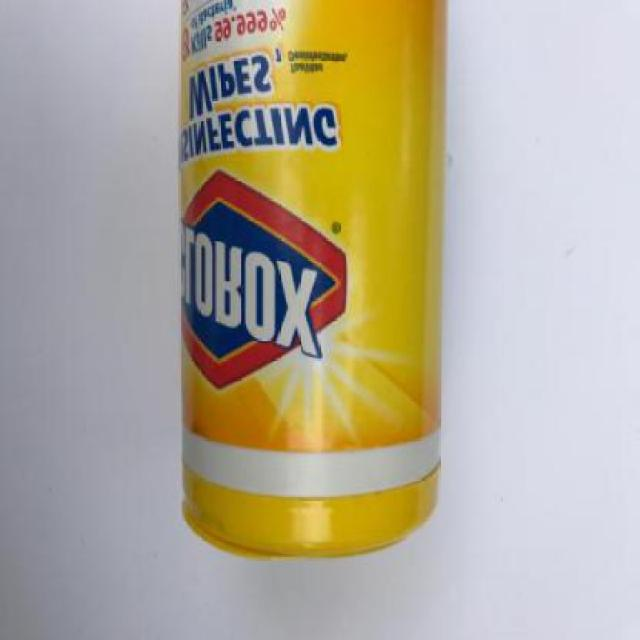PLASTIC: (182, 0, 442, 558)
